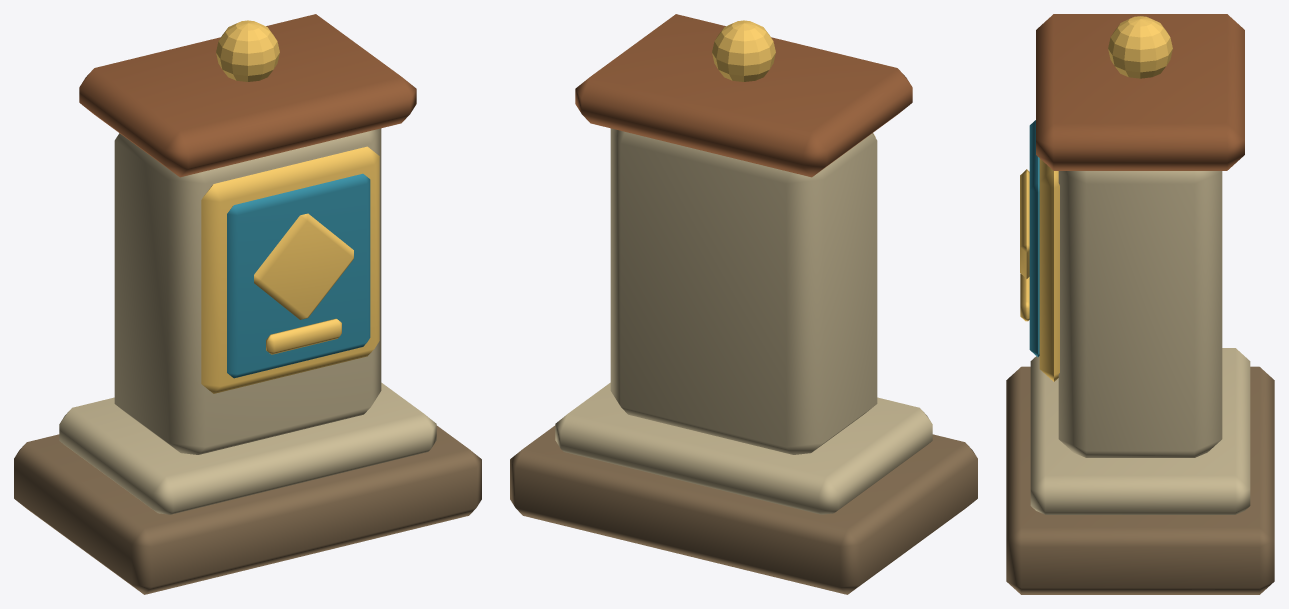
The model's file is undertaking_marker.glb.
3 renders of one model, left to right at view 1: azimuth 30°, elevation 25°; view 2: azimuth 150°, elevation 25°; view 3: azimuth 270°, elevation 25°, orthographic.
Visible parts, largest first — view 1: Urkundenpfeiler, Steinsockel, Abschlussgesims, Sandsteinstufe, Blauer Stempelgrund, Gerahmte Einlassplatte, Raute des Rats, Messingkugel, Schriftzeichen; view 2: Urkundenpfeiler, Steinsockel, Abschlussgesims, Sandsteinstufe, Messingkugel; view 3: Urkundenpfeiler, Abschlussgesims, Steinsockel, Sandsteinstufe, Gerahmte Einlassplatte, Messingkugel, Blauer Stempelgrund, Raute des Rats, Schriftzeichen.
Boxes of the visible parts, <box> form: Urkundenpfeiler: <box>114,128,381,454</box>; Steinsockel: <box>14,425,481,594</box>; Abschlussgesims: <box>79,14,416,177</box>; Sandsteinstufe: <box>59,382,436,514</box>; Blauer Stempelgrund: <box>227,173,370,378</box>; Gerahmte Einlassplatte: <box>201,146,379,393</box>; Raute des Rats: <box>254,213,353,319</box>; Messingkugel: <box>216,20,279,81</box>; Schriftzeichen: <box>266,318,341,354</box>; Urkundenpfeiler: <box>610,128,877,454</box>; Steinsockel: <box>510,425,977,594</box>; Abschlussgesims: <box>575,14,912,177</box>; Sandsteinstufe: <box>555,382,932,514</box>; Messingkugel: <box>712,20,775,81</box>; Urkundenpfeiler: <box>1058,171,1222,457</box>; Abschlussgesims: <box>1036,14,1244,170</box>; Steinsockel: <box>1006,366,1274,594</box>; Sandsteinstufe: <box>1030,348,1250,514</box>; Gerahmte Einlassplatte: <box>1039,158,1059,381</box>; Messingkugel: <box>1108,16,1172,78</box>; Blauer Stempelgrund: <box>1029,120,1039,356</box>; Raute des Rats: <box>1020,169,1029,278</box>; Schriftzeichen: <box>1020,273,1029,321</box>.
Size of the model in its own units: 1.1 by 1.47 by 0.72.
